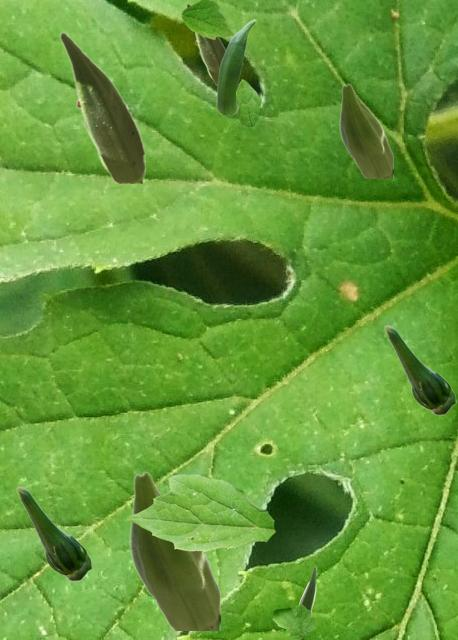okra: (129, 471, 219, 629), (59, 31, 144, 182), (16, 486, 91, 580), (384, 325, 455, 414), (339, 83, 392, 177), (216, 19, 255, 113), (186, 3, 225, 84), (298, 566, 315, 611)
